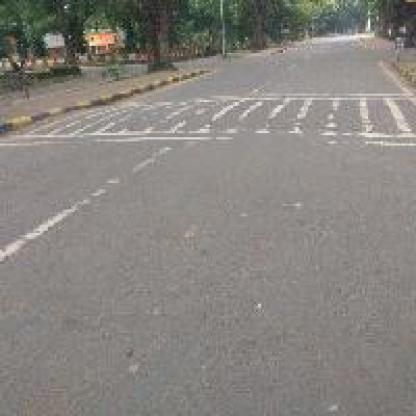Speed Bump: (2, 94, 414, 152)
